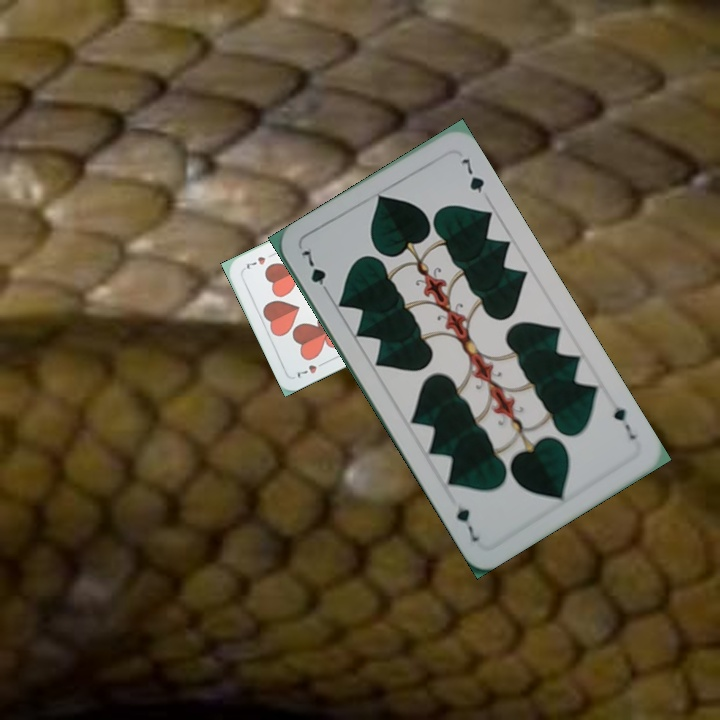G7: (297, 243, 334, 299), (609, 402, 639, 442)
H7: (293, 357, 330, 381)
